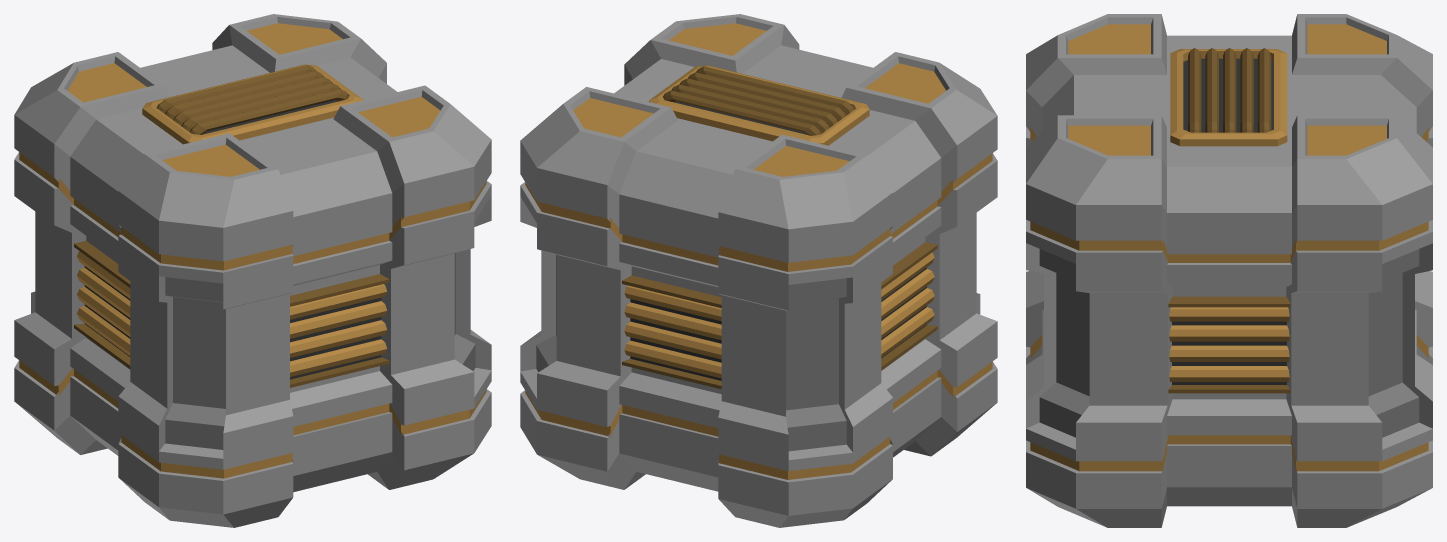
Rendered from Props_Crate.glb.
3 views of the same model, side by side, from view 1: azimuth 30°, elevation 25°; view 2: azimuth 150°, elevation 25°; view 3: azimuth 270°, elevation 25° (orthographic). The views are drawn at different scales.
Visible parts, largest first — view 1: Black; view 2: Black; view 3: Black.
Boxes of the visible parts, x1,y1,x2,y2 form: Black: (14, 14, 491, 527); Black: (520, 14, 997, 527); Black: (1026, 14, 1432, 527).
Size of the model in its own units: 0.7971 by 0.8055 by 0.7971.
Materials: 1 (1 with a texture image).
